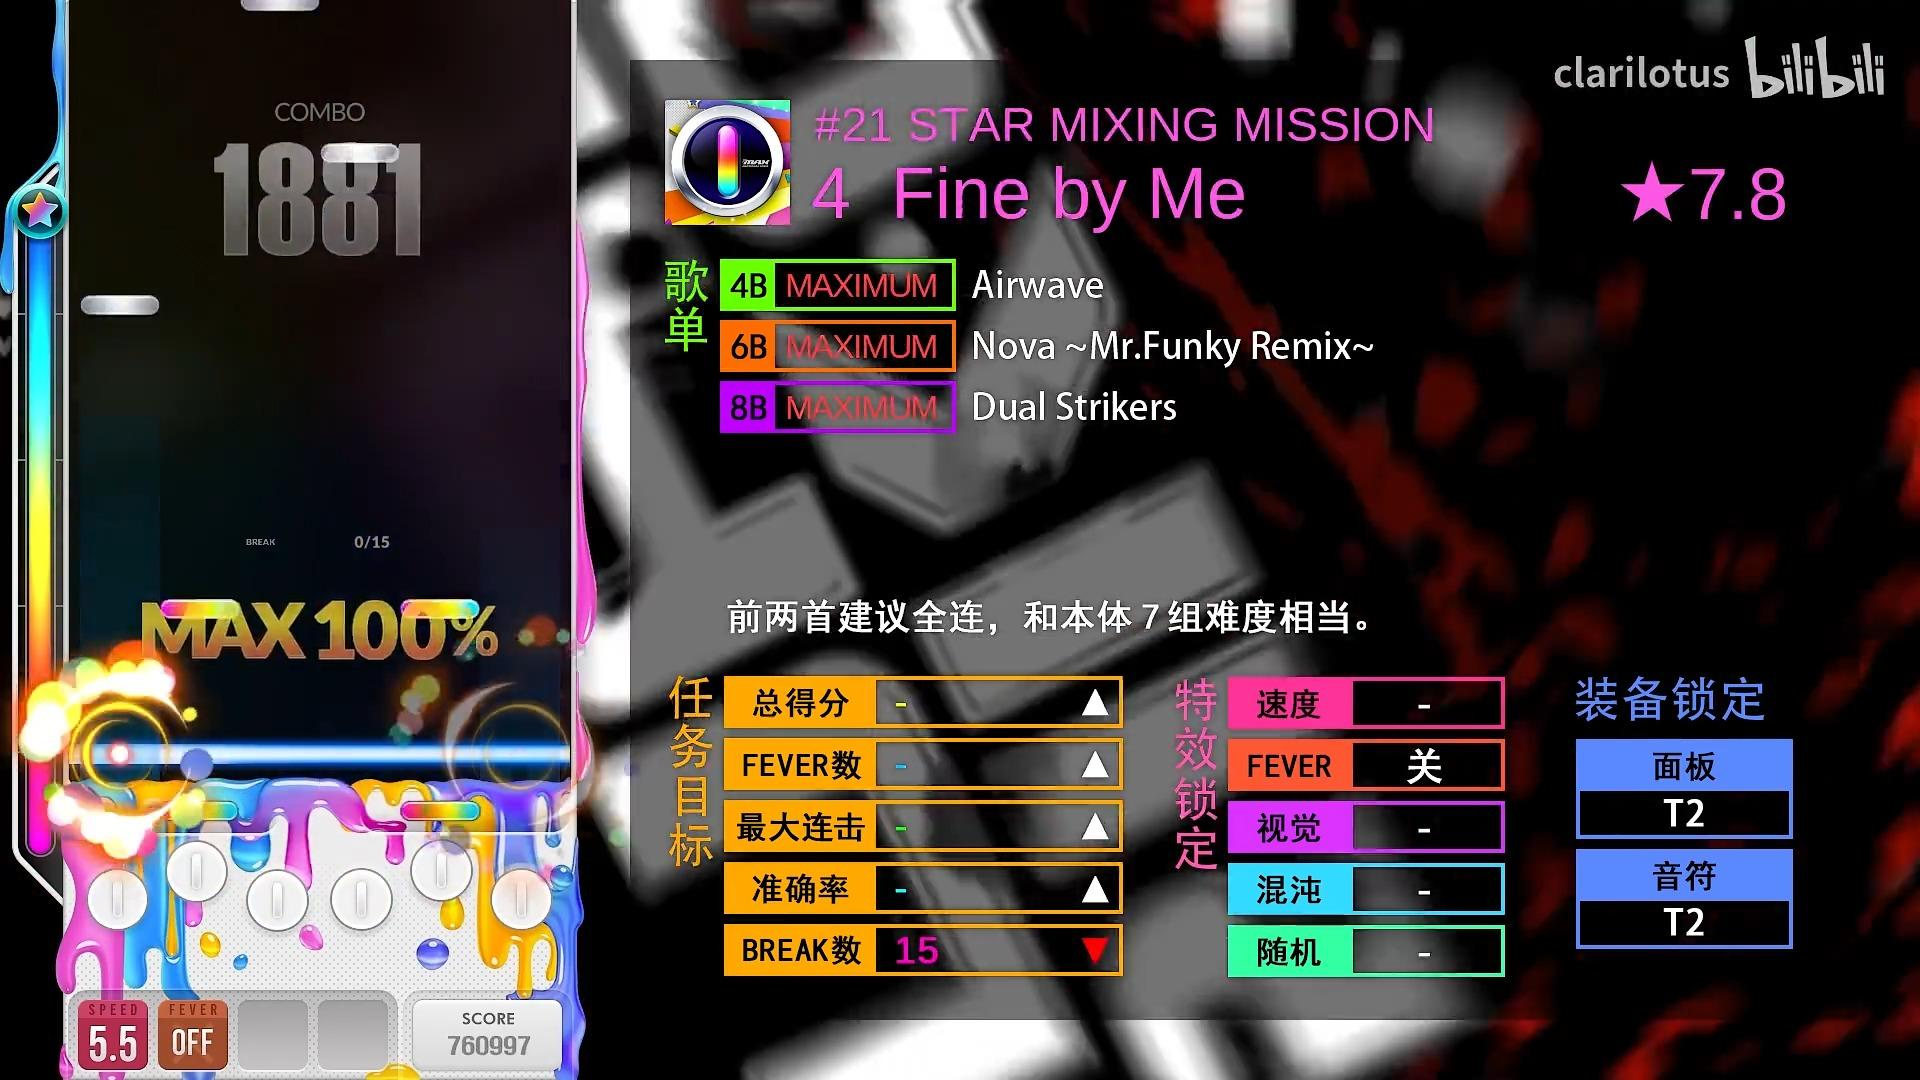note: (320, 142, 400, 165), (400, 597, 479, 620), (160, 600, 241, 620), (80, 295, 160, 314)
